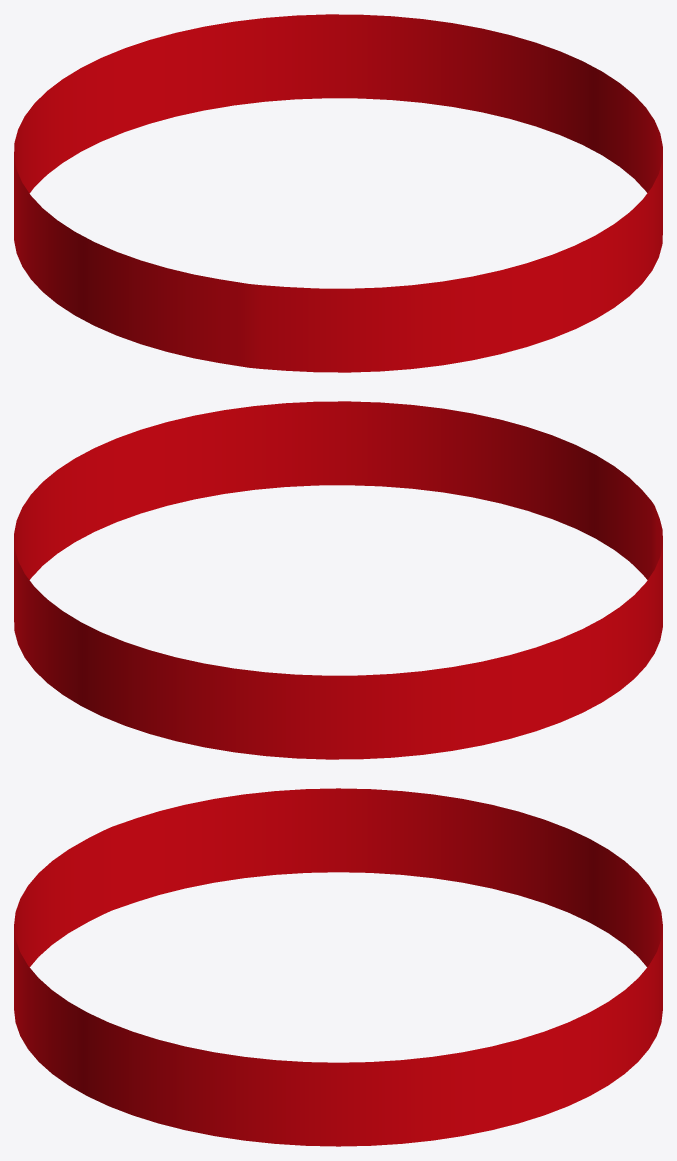
The model's file is centrocuerpo.obj.
3 renders of one model, top to bottom at view 1: azimuth 30°, elevation 25°; view 2: azimuth 150°, elevation 25°; view 3: azimuth 270°, elevation 25°, orthographic.
Visible parts, largest first — view 1: Object001; view 2: Object001; view 3: Object001.
Boxes of the visible parts, x1,y1,x2,y2 form: Object001: (14,14,662,372); Object001: (14,401,662,759); Object001: (14,788,662,1146).
Size of the model in its own units: 2.76 by 0.3931 by 2.76.
